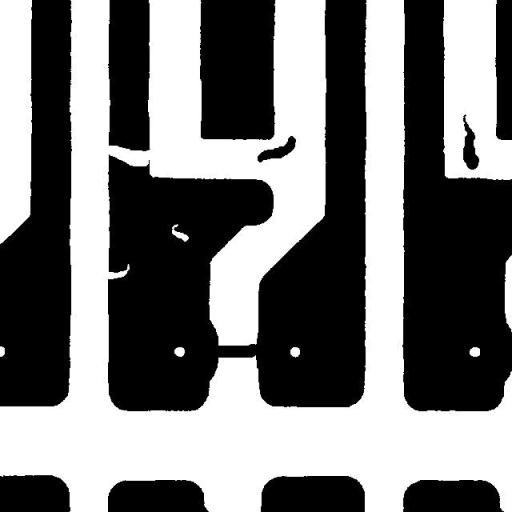copper: (250, 128, 303, 170), (456, 106, 486, 177)
mousebite: (97, 256, 137, 286)
open: (98, 138, 162, 174)
pin-hole: (164, 216, 196, 249)
short: (201, 336, 266, 366)
